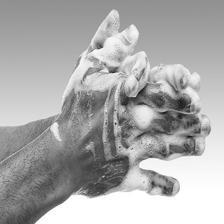Hand: (139, 61, 203, 177)
